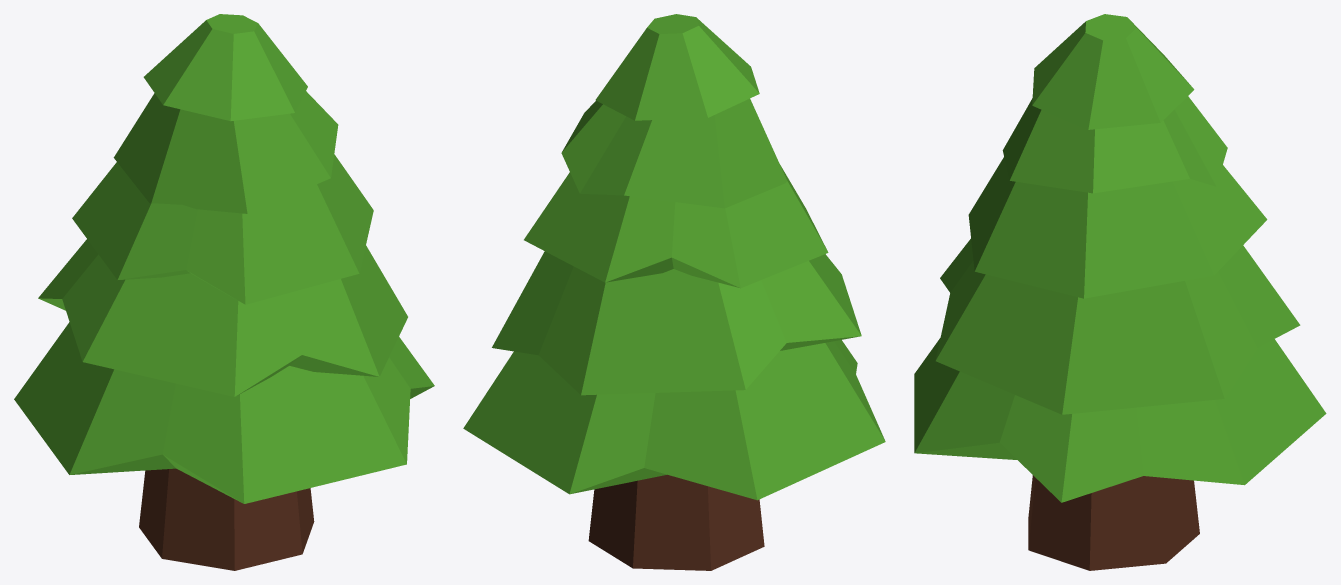
File: Tree_02.glb
The picture shows the model from 3 angles, left to right: view 1: azimuth 30°, elevation 25°; view 2: azimuth 150°, elevation 25°; view 3: azimuth 270°, elevation 25°; orthographic projection.
Visible parts, largest first — view 1: Cube; view 2: Cube; view 3: Cube.
Boxes of the visible parts, bbox=[...] form: Cube: bbox=[14, 14, 434, 570]; Cube: bbox=[463, 14, 885, 570]; Cube: bbox=[914, 14, 1326, 570].
Bounding box in the file's own units: 1.63 × 2.18 × 1.59.
